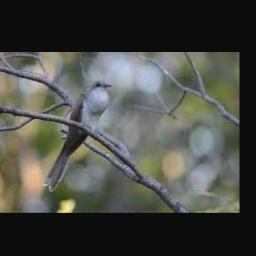Cuckoo: (43, 79, 113, 191)
